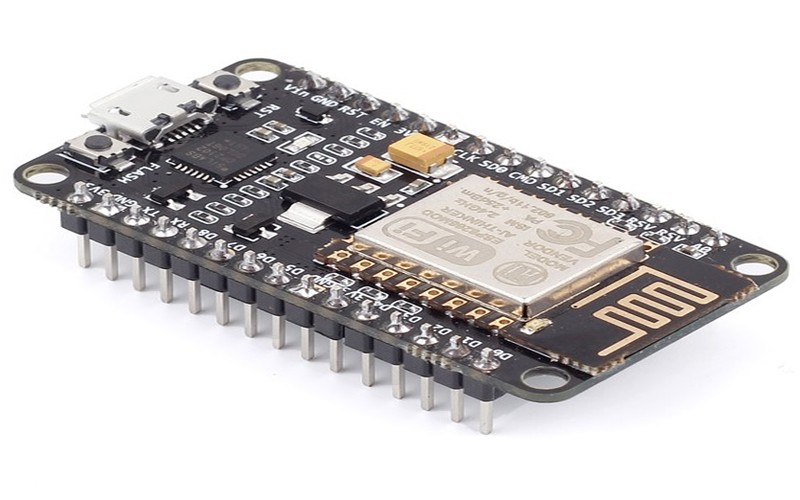IoT Sensor: (11, 47, 800, 441)
